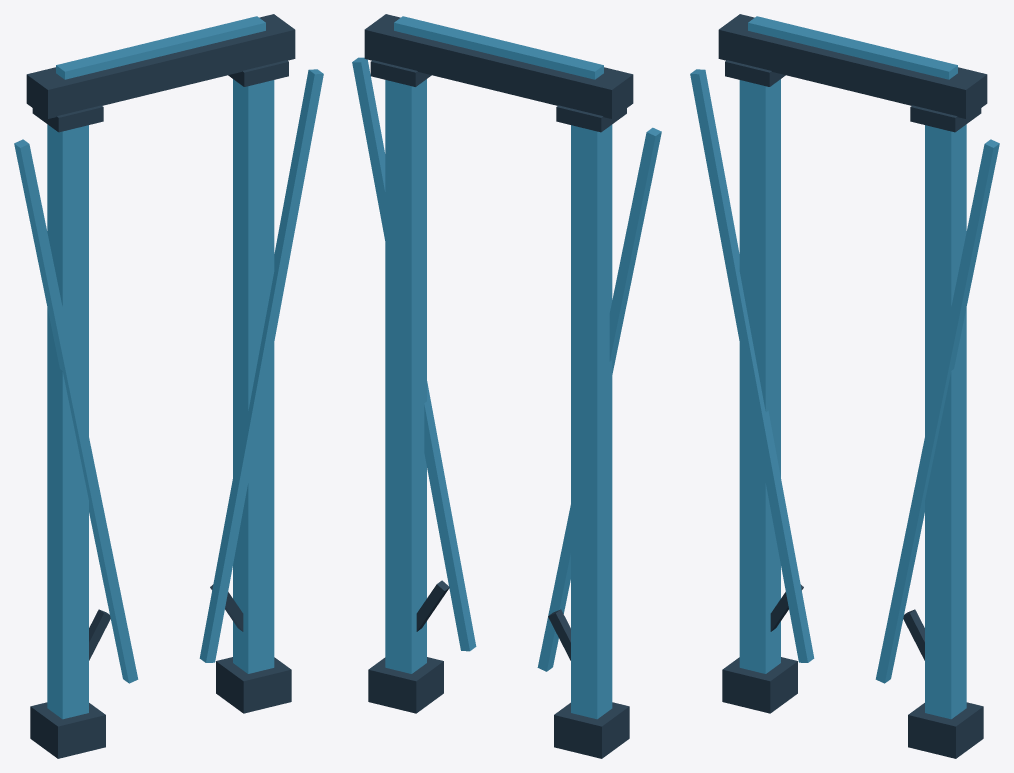
The model's file is interior-archway.glb.
3 renders of one model, left to right at view 1: azimuth 30°, elevation 25°; view 2: azimuth 150°, elevation 25°; view 3: azimuth 330°, elevation 25°, orthographic.
Visible parts, largest first — view 1: interior-archway-emissive, interior-archway-body; view 2: interior-archway-emissive, interior-archway-body; view 3: interior-archway-emissive, interior-archway-body.
Part boxes in pixels (x1=…): interior-archway-emissive: x1=14, y1=16, x2=323, y2=719; interior-archway-body: x1=26, y1=14, x2=295, y2=758; interior-archway-emissive: x1=352, y1=16, x2=661, y2=719; interior-archway-body: x1=364, y1=14, x2=633, y2=758; interior-archway-emissive: x1=690, y1=16, x2=999, y2=719; interior-archway-body: x1=718, y1=14, x2=987, y2=758.
Size of the model in its own units: 3.93 by 8.36 by 0.62.
